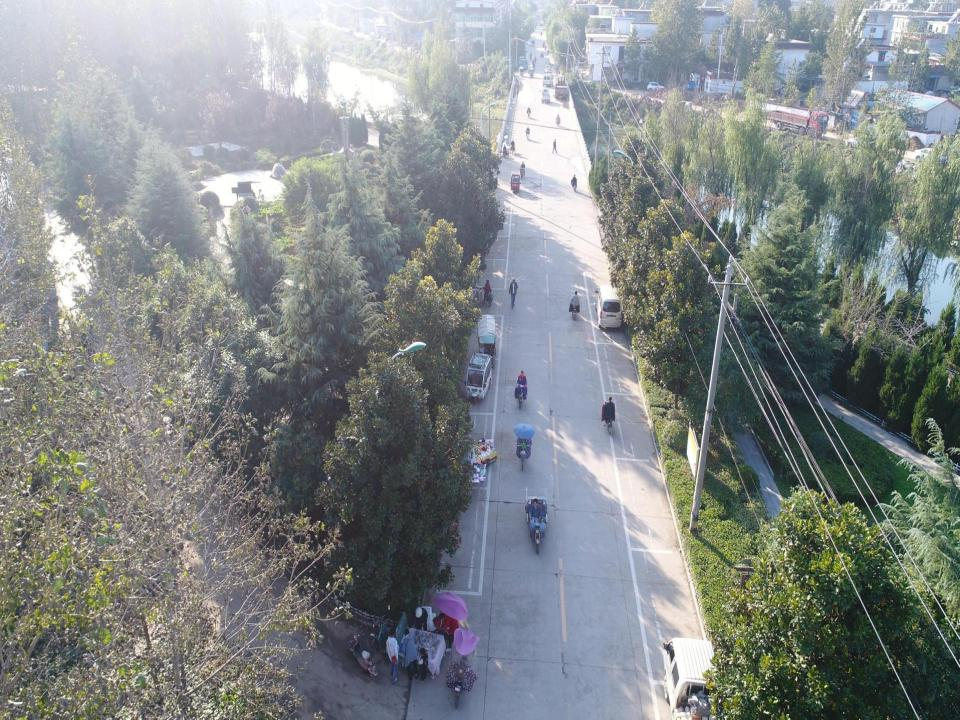car: (914, 142, 949, 165), (844, 132, 878, 152), (646, 78, 667, 92), (519, 55, 525, 65)
truck: (661, 634, 732, 719), (762, 101, 832, 140), (555, 75, 568, 99), (539, 86, 552, 105), (519, 59, 528, 71), (544, 64, 551, 74)
van: (594, 282, 626, 332), (542, 73, 554, 87)
